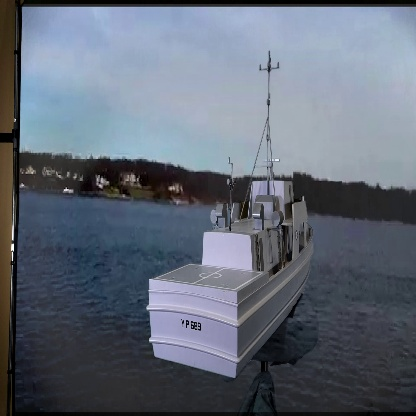YP689: (146, 52, 316, 380)
